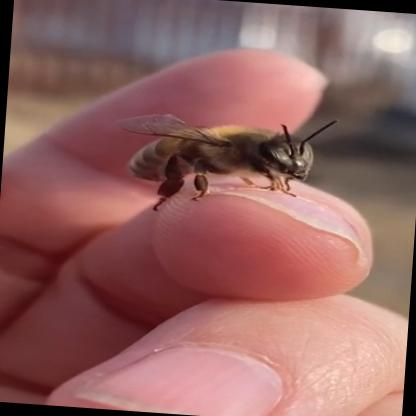bee: (90, 88, 376, 238)
